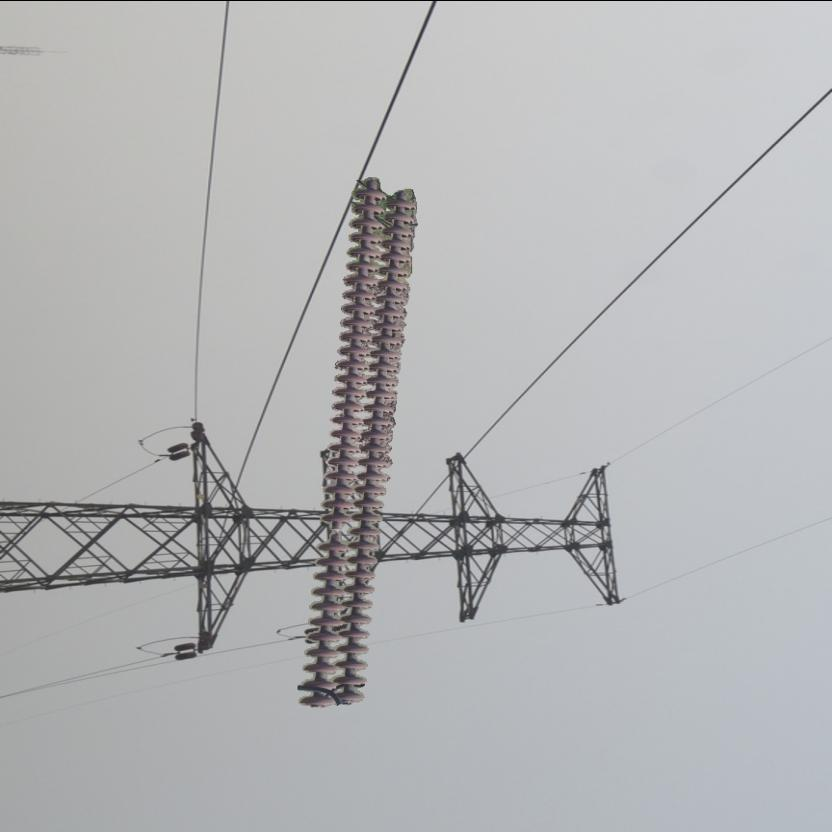defect: (321, 509, 355, 558)
